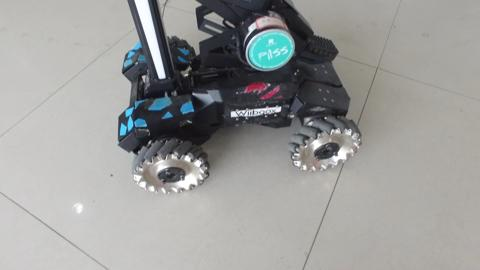chariot: (89, 4, 351, 187)
